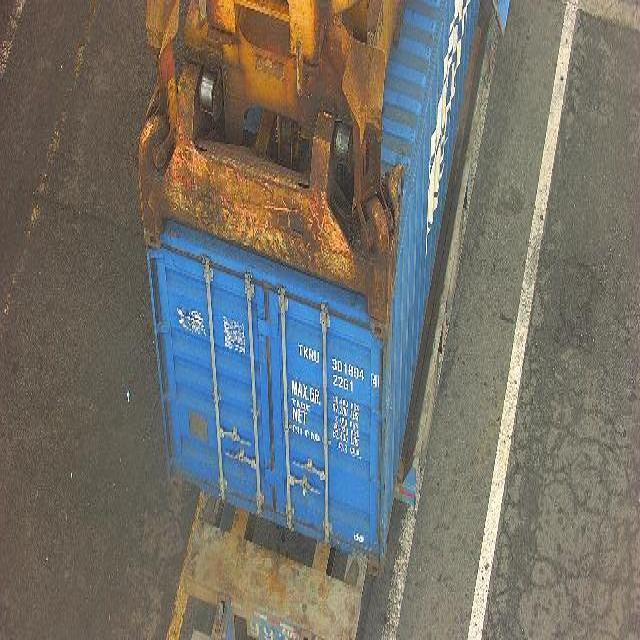ISO: (334, 376, 352, 394)
container_number: (298, 341, 382, 387)
